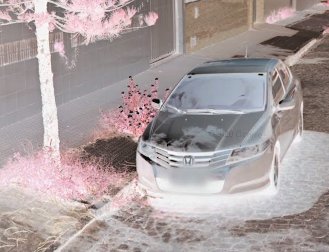car: (133, 43, 307, 194)
